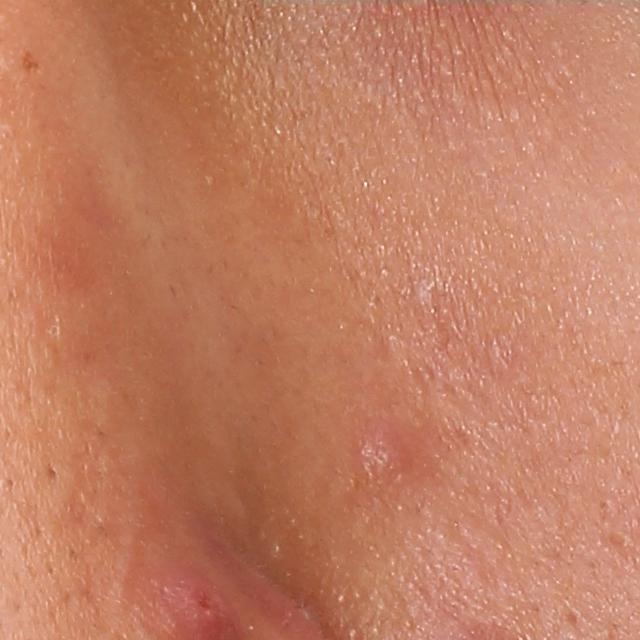nevus: (16, 44, 45, 82)
papule: (351, 415, 415, 491)
